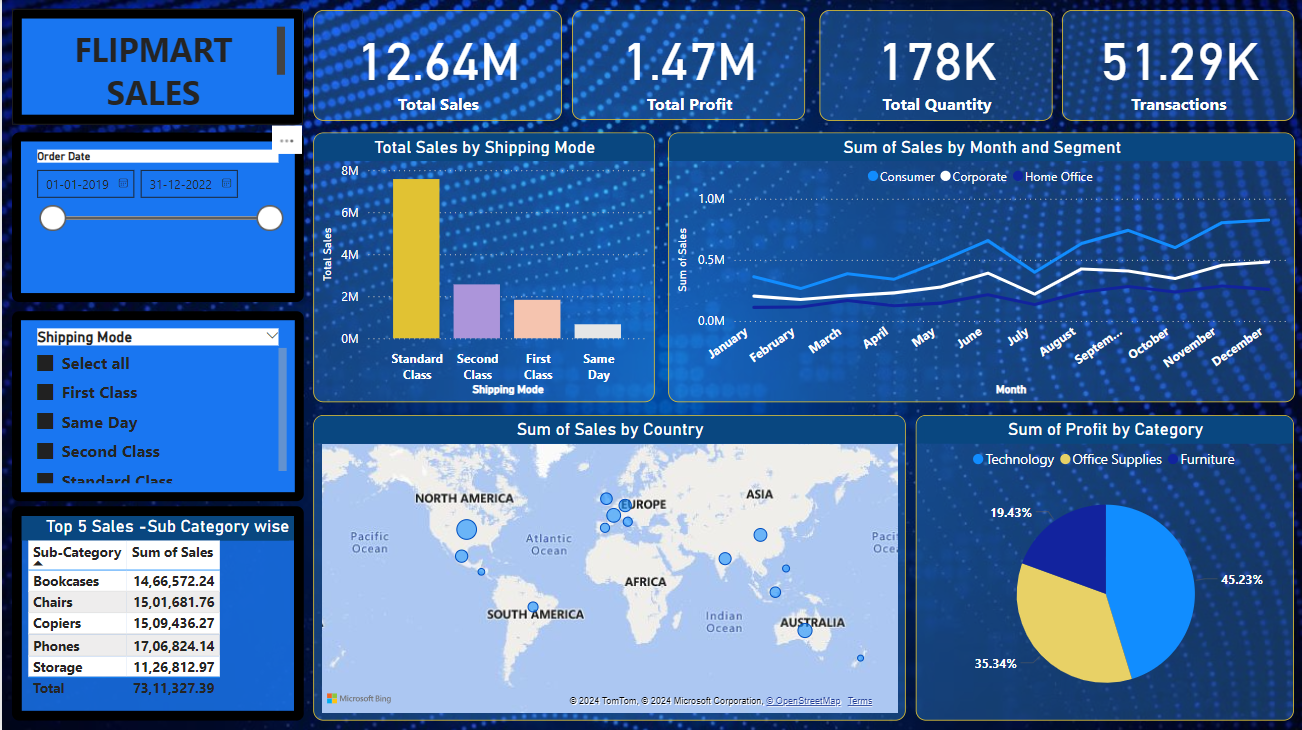

What the dashboard file says about the page in this screenshot:
{"tool":"powerbi","page":{"name":"Page 1","canvas":[1280,720],"ordinal":0},"visuals":[{"type":"card","fields":{"Values":["Sum(Sales.Sales)"]},"box":[305,10,243.8,108.8],"z":0},{"type":"card","fields":{"Values":["Sum(Sales.Profit)"]},"box":[560,10,229.2,108.3],"z":1000},{"type":"card","fields":{"Values":["Sum(Sales.Quantity)"]},"box":[802,9.6,229.1,108.5],"z":2000},{"type":"card","fields":{"Values":["CountNonNull(Sales.Order ID)"]},"box":[1040.8,9.6,227.9,108.5],"z":3000},{"type":"clusteredColumnChart","title":"Total Sales by Shipping Mode","fields":{"Y":["Sum(Sales.Sales)"],"Category":["Sales.Shipping Mode"]},"box":[305,130,335,265],"z":4000},{"type":"pieChart","fields":{"Category":["Sales.Category"],"Y":["Sum(Sales.Profit)"]},"box":[897.3,407.6,371.5,300.3],"z":5000},{"type":"lineChart","fields":{"Y":["Sum(Sales.Sales)"],"Category":["Sales.Order Date.Variation.Date Hierarchy.Month"],"Series":["Sales.Segment"]},"box":[653.8,130,615,265],"z":6000},{"type":"map","fields":{"Size":["Sum(Sales.Sales)"],"Category":["Sales.Country"]},"box":[305,407.5,581.2,300],"z":7000},{"type":"tableEx","title":"Top 5 Sales -Sub Category wise","fields":{"Values":["Sales.Sub-Category","Sum(Sales.Sales)"]},"box":[10,497.5,286.2,210],"z":8000},{"type":"slicer","fields":{"Values":["Sales.Shipping Mode"]},"box":[10,305,286.2,186.2],"z":9000},{"type":"slicer","fields":{"Values":["Sales.Order Date"]},"box":[10,130,286.2,166.2],"z":10000},{"type":"textbox","box":[10,8.8,286.2,113.8],"z":11000}]}

Visuals, with their boxes in screenshot pixels (x1, y1, x2, y2), scaled from the page's 1280x720 canvas onto the 1302x730 screenshot:
card - Sum(Sales.Sales): 310:10:558:120
card - Sum(Sales.Profit): 570:10:803:120
card - Sum(Sales.Quantity): 816:10:1049:120
card - CountNonNull(Sales.Order ID): 1059:10:1291:120
"Total Sales by Shipping Mode" clusteredColumnChart: 310:132:651:400
pieChart - Sales.Category x Sum(Sales.Profit): 913:413:1291:718
lineChart - Sum(Sales.Sales) x Sales.Order Date.Variation.Date Hierarchy.Month: 665:132:1291:400
map - Sum(Sales.Sales) x Sales.Country: 310:413:901:717
"Top 5 Sales -Sub Category wise" tableEx: 10:504:301:717
slicer - Sales.Shipping Mode: 10:309:301:498
slicer - Sales.Order Date: 10:132:301:300
textbox: 10:9:301:124
